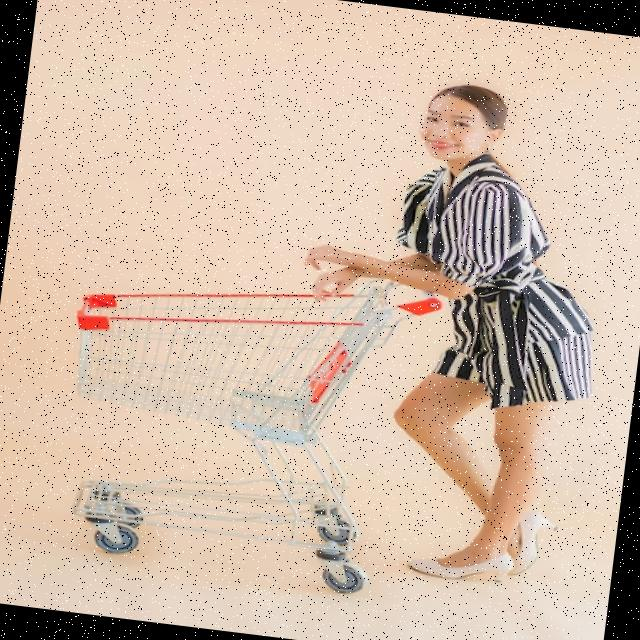Person: (266, 68, 626, 594)
